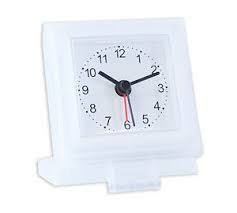alarm_clock: (32, 14, 203, 192), (32, 19, 203, 192)
